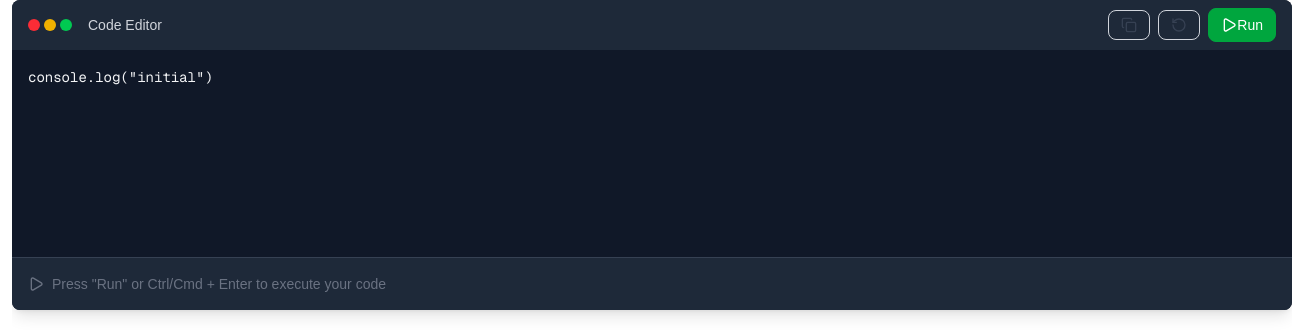
CodeEditor Component › resets code when reset button is clicked
The width and height of the screenshot is (1304, 336).
// Modify the code
Replace the text in the text box with "console.log(\"modified\")": x=652, y=150 [12, 50, 1292, 250]
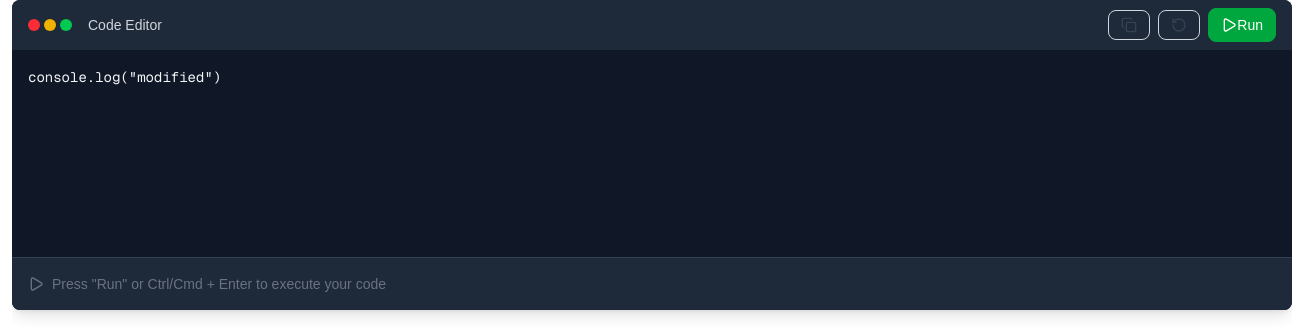
// Reset the code - find button by its position (second button)
Click the 2nd button: x=1179, y=25 [1158, 10, 1200, 40]
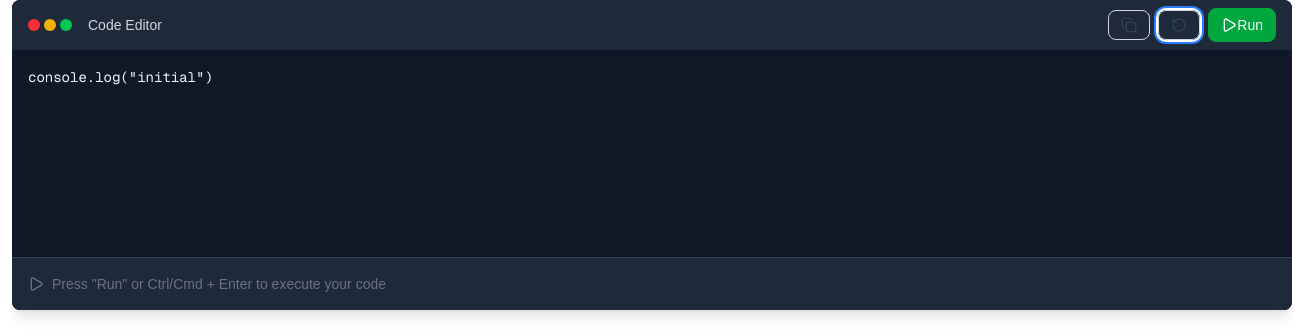
Now the text box holds "console.log(\"initial\")", box [12, 50, 1292, 250]
